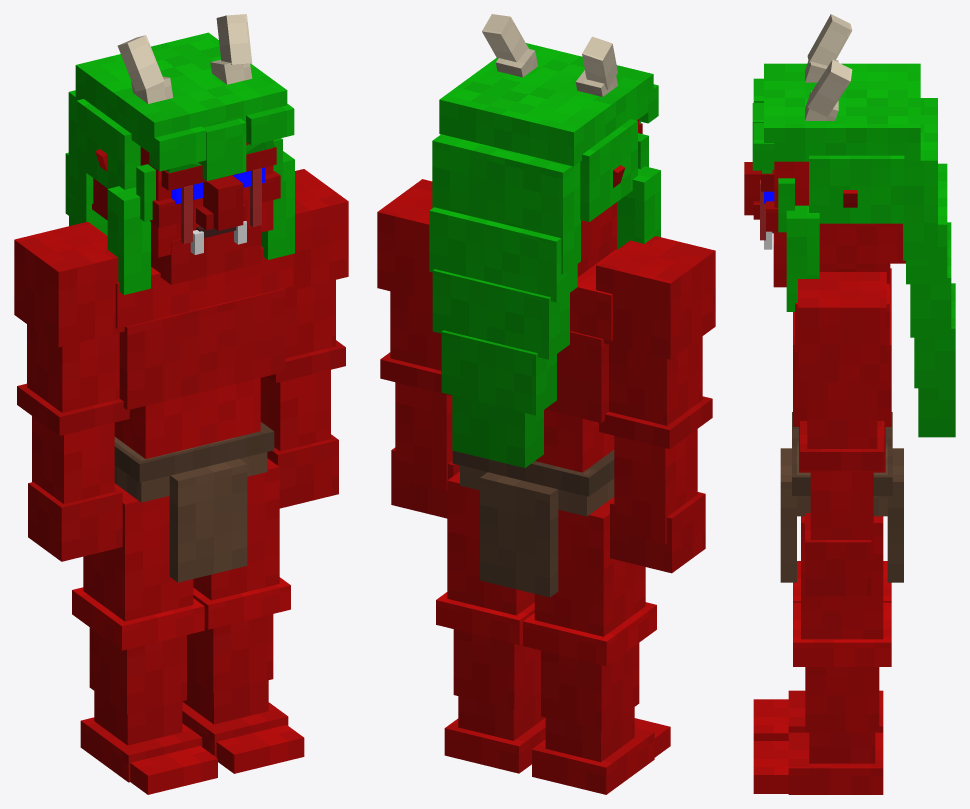
The model's file is kijin_s0.glb.
3 views of the same model, side by side, from view 1: azimuth 30°, elevation 25°; view 2: azimuth 150°, elevation 25°; view 3: azimuth 270°, elevation 25° (orthographic).
Parts seen in each view (by area): view 1: Head, Torso, ArmR, LegR, LegL, ArmL; view 2: Head, ArmR, LegR, Torso, LegL, ArmL; view 3: Head, ArmL, LegL, Torso, LegR.
Boxes of the visible parts, x1,y1,x2,y2 form: Head: (65, 14, 294, 294); Torso: (114, 246, 293, 582); ArmR: (14, 221, 129, 561); LegR: (72, 483, 217, 794); LegL: (182, 458, 304, 773); ArmL: (260, 169, 348, 508); Head: (429, 14, 660, 467); ArmR: (596, 236, 715, 573); LegR: (523, 497, 670, 794); Torso: (441, 249, 616, 597); LegL: (436, 471, 545, 773); ArmL: (377, 179, 459, 518); Head: (744, 14, 955, 437); ArmL: (798, 272, 886, 596); LegL: (753, 516, 891, 794); Torso: (780, 268, 903, 582); LegR: (753, 561, 891, 740).
Bounding box in the file's own units: 0.807 × 1.92 × 0.5125.
26 materials, 26 textured.
